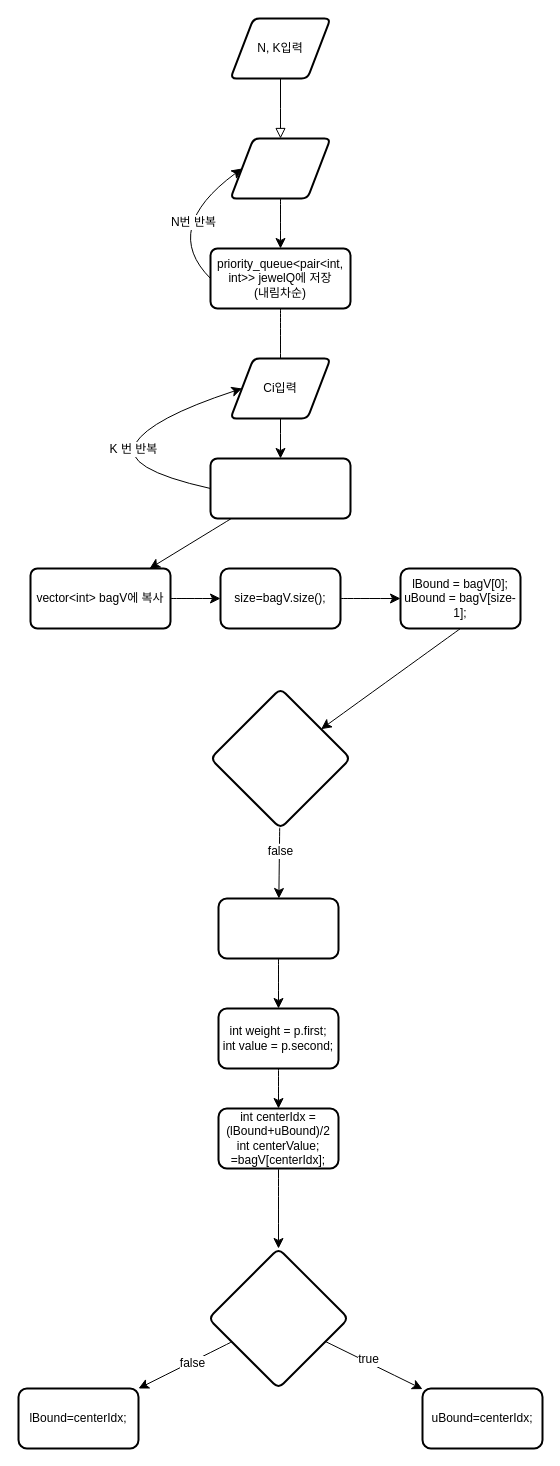
Image size: 560x1466. Some labels were removed from this diagram. Here are the shapes that lost their labels. From the top down, the centre of each, then its label:
the point at 280,168: Mi, Vi입력
the point at 280,488: priority_queue<int> bagQ에 저장 (오름차순)
the point at 280,758: lBound==uBound
the point at 278,928: pair<int, int> p에 jewelQ의 값 저장, jewelQ.pop()
the point at 278,1318: centerValue>=weight
